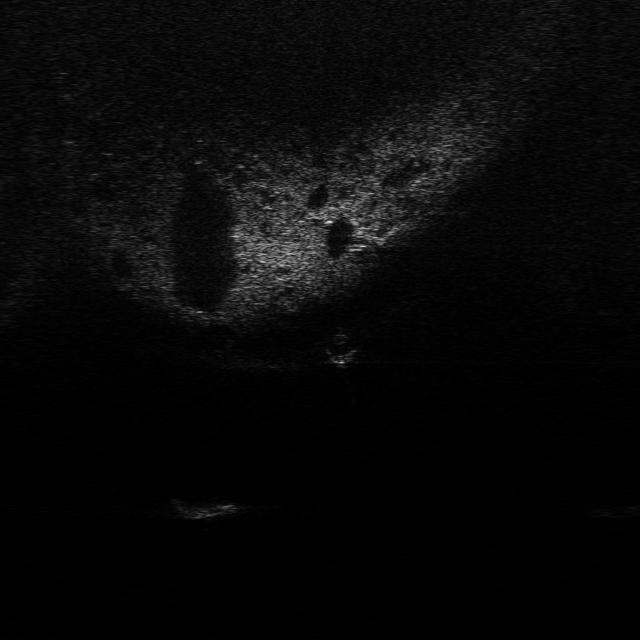ball: (322, 333, 363, 363)
cube: (166, 496, 243, 524)
